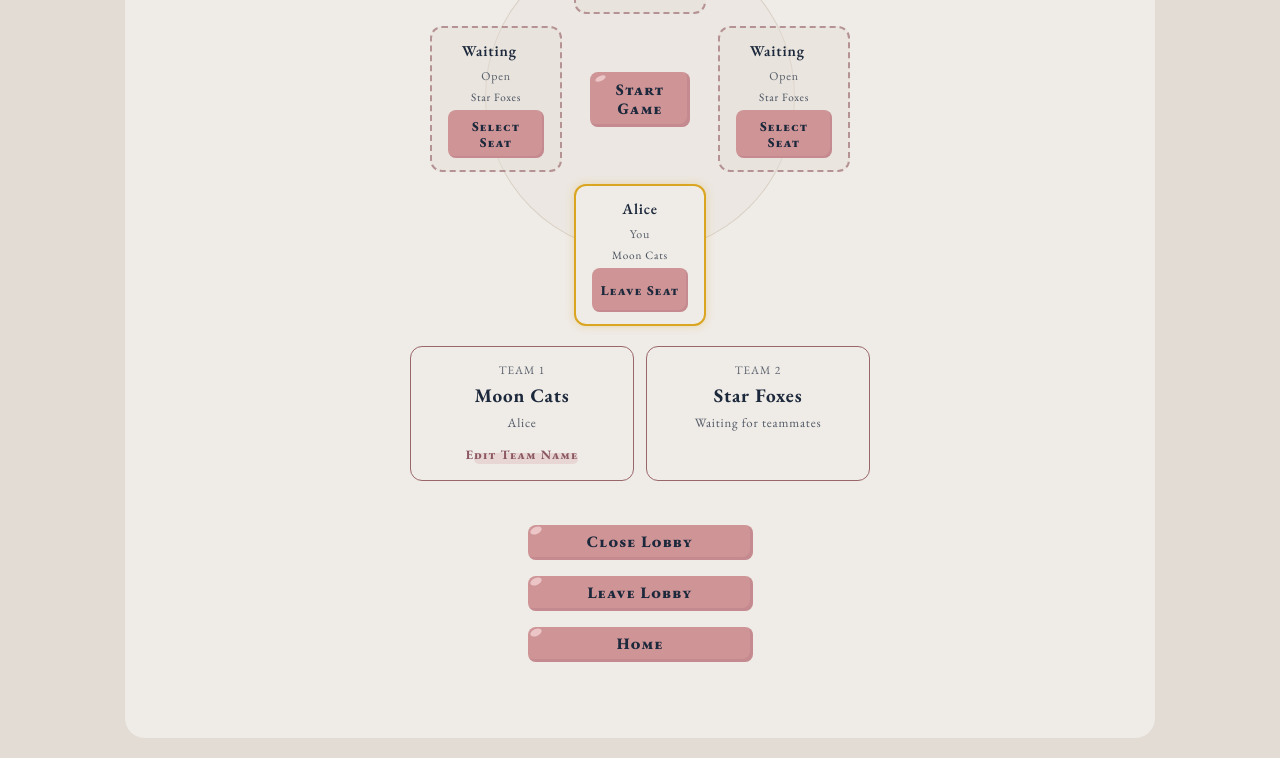
closes the team name editor when saving the existing name
The width and height of the screenshot is (1280, 758).
(page scrolled)
Click the button "Edit team name" at (522, 454), box [464,442,580,466]
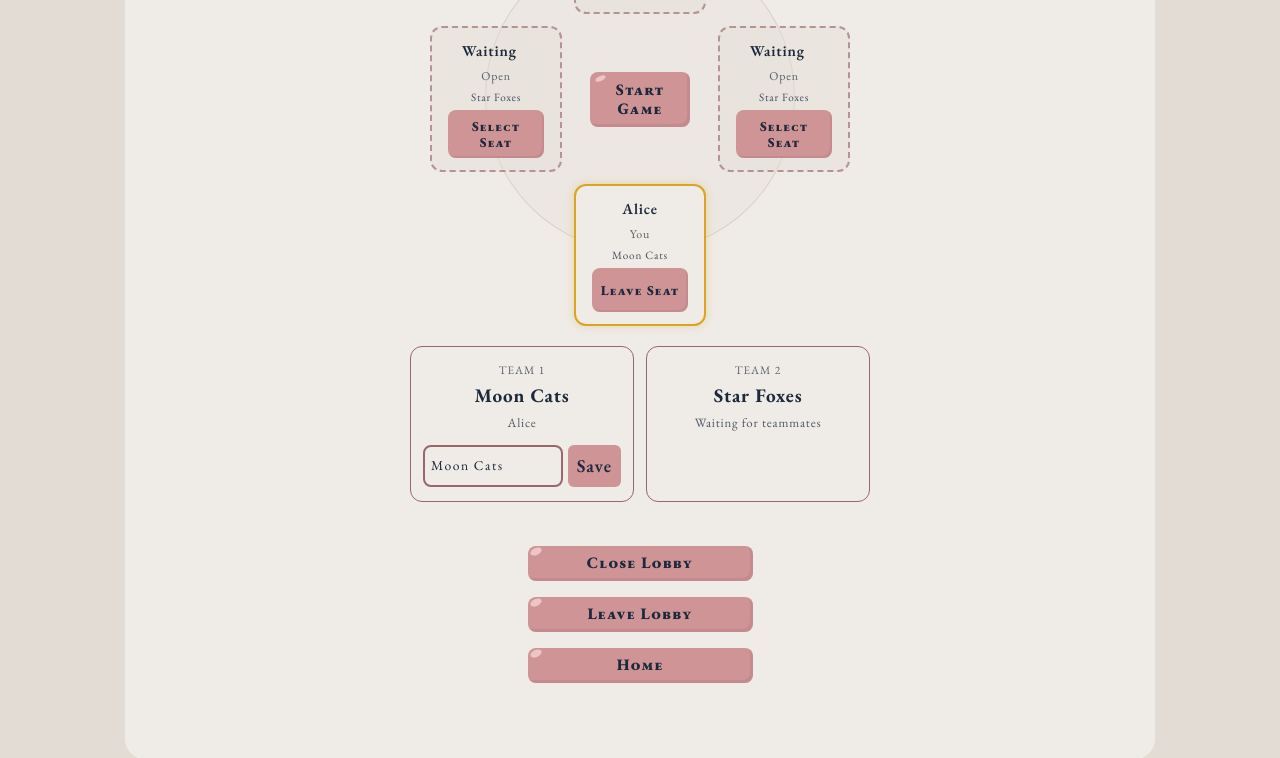
Click the button "Save" at (594, 466), box [568,444,621,486]
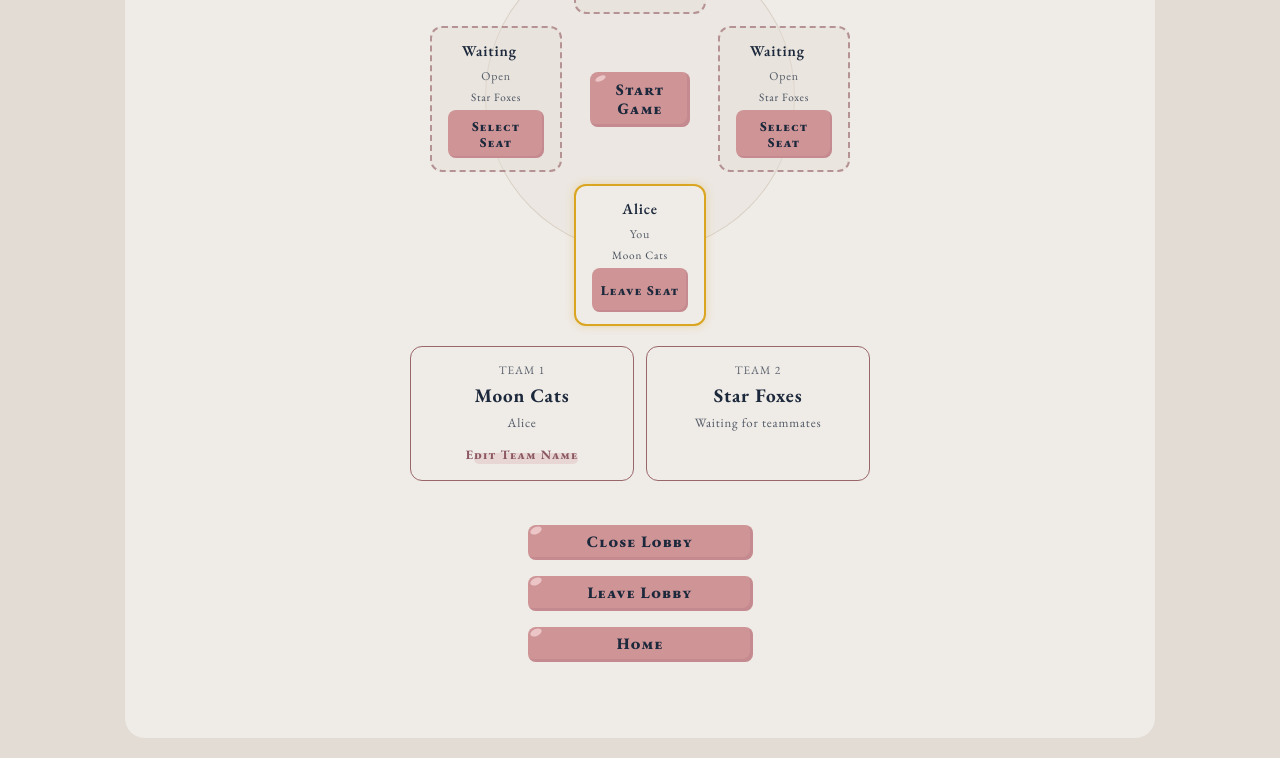
Expected: the field labelled "Team 1 name" is not shown
Result: the button "Edit team name" is shown at [464,442,580,466]
